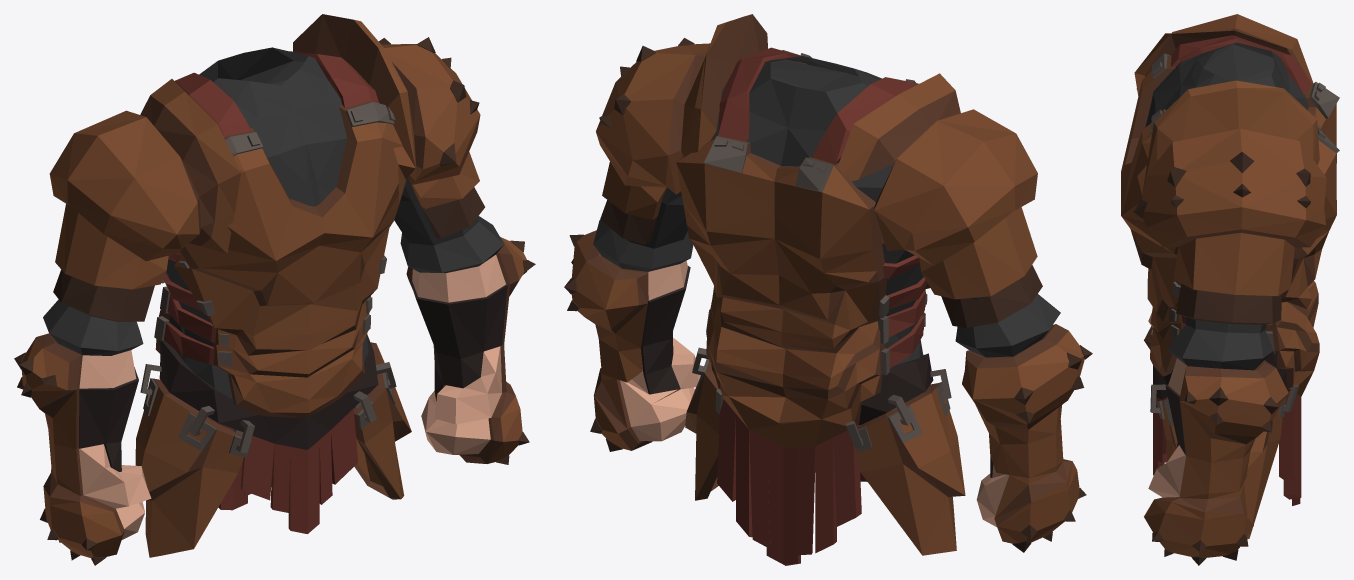
File: ChitinChestplate.dae
3 renders of one model, left to right at view 1: azimuth 30°, elevation 25°; view 2: azimuth 150°, elevation 25°; view 3: azimuth 270°, elevation 25°, orthographic. The views are drawn at different scales.
Visible parts, largest first — view 1: ChitinChestplate; view 2: ChitinChestplate; view 3: ChitinChestplate.
Boxes of the visible parts, x1,y1,x2,y2 form: ChitinChestplate: [14, 14, 535, 565]; ChitinChestplate: [564, 14, 1092, 565]; ChitinChestplate: [1121, 14, 1339, 565].
Size of the model in its own units: 5.8 by 2.29 by 5.38.
